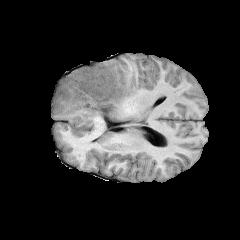glioma: (58, 61, 138, 132)
